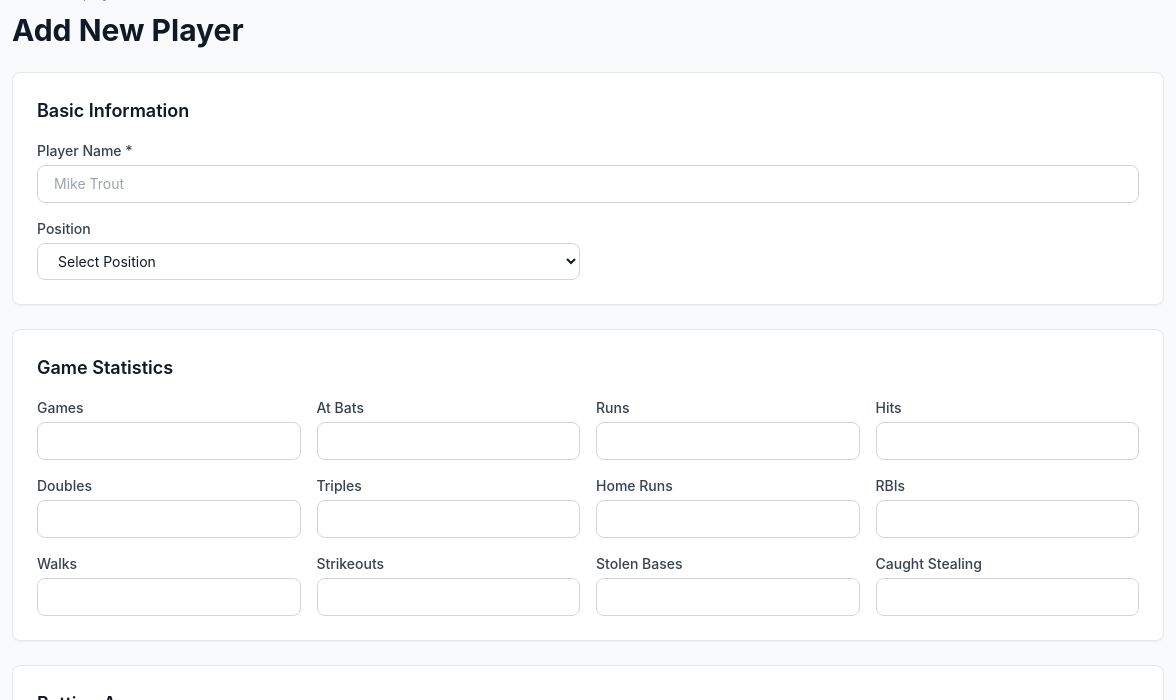
Test: PlayerFormPage › Create Mode › should show saving state on button
Type "New Player" into the field labelled "Player Name *" at point(588, 184), box [37, 165, 1139, 203]
(page scrolled)
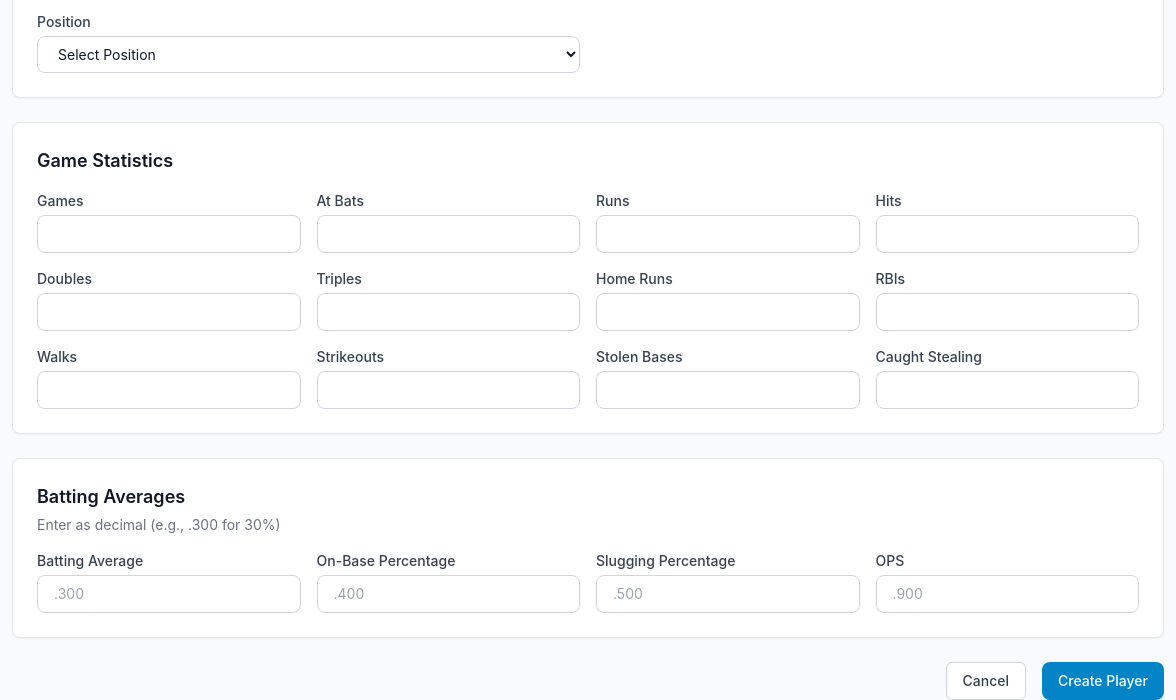
Click the button "Create Player" at point(1103, 681), box [1042, 662, 1164, 699]
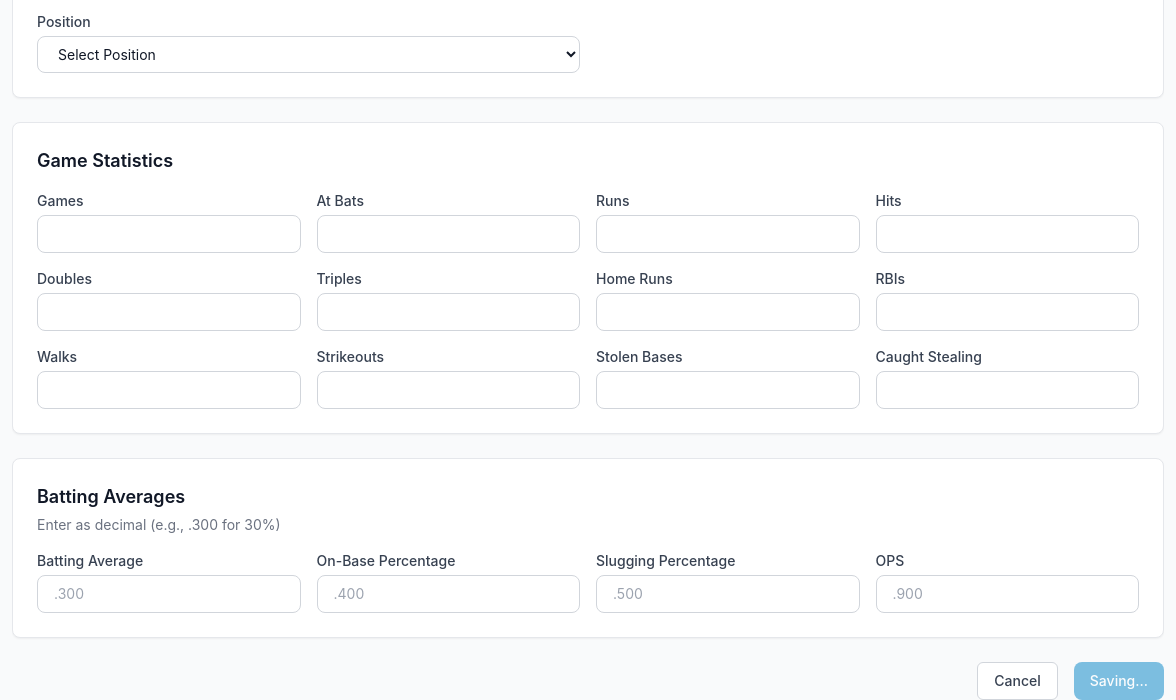
Check: the button "Saving..." is shown, box [1074, 662, 1164, 699]
